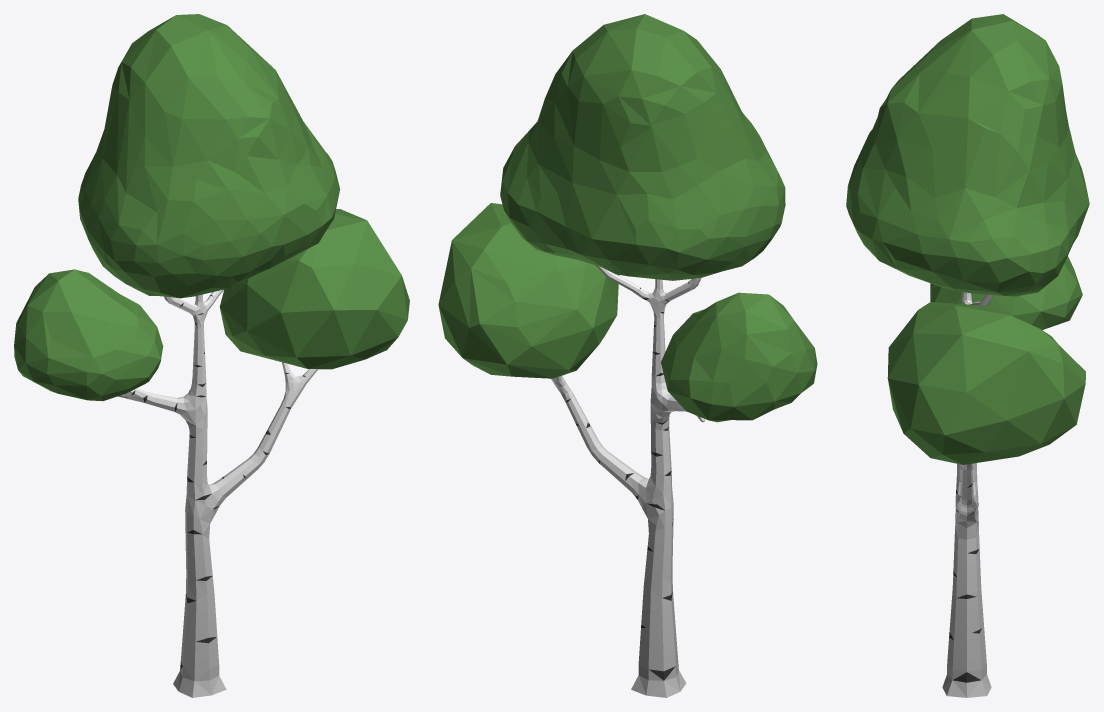
File: Tree_01.fbx
The picture shows the model from 3 angles, left to right: view 1: azimuth 30°, elevation 25°; view 2: azimuth 150°, elevation 25°; view 3: azimuth 270°, elevation 25°; orthographic projection. The views are drawn at different scales.
Visible parts, largest first — view 1: Tree_01_LOD0; view 2: Tree_01_LOD0; view 3: Tree_01_LOD0.
Part boxes in pixels (bbox=[...]): Tree_01_LOD0: bbox=[14, 14, 409, 697]; Tree_01_LOD0: bbox=[438, 14, 817, 697]; Tree_01_LOD0: bbox=[846, 14, 1089, 697].
Size of what is drawn, in the model's own units: 452 by 782 by 259.
